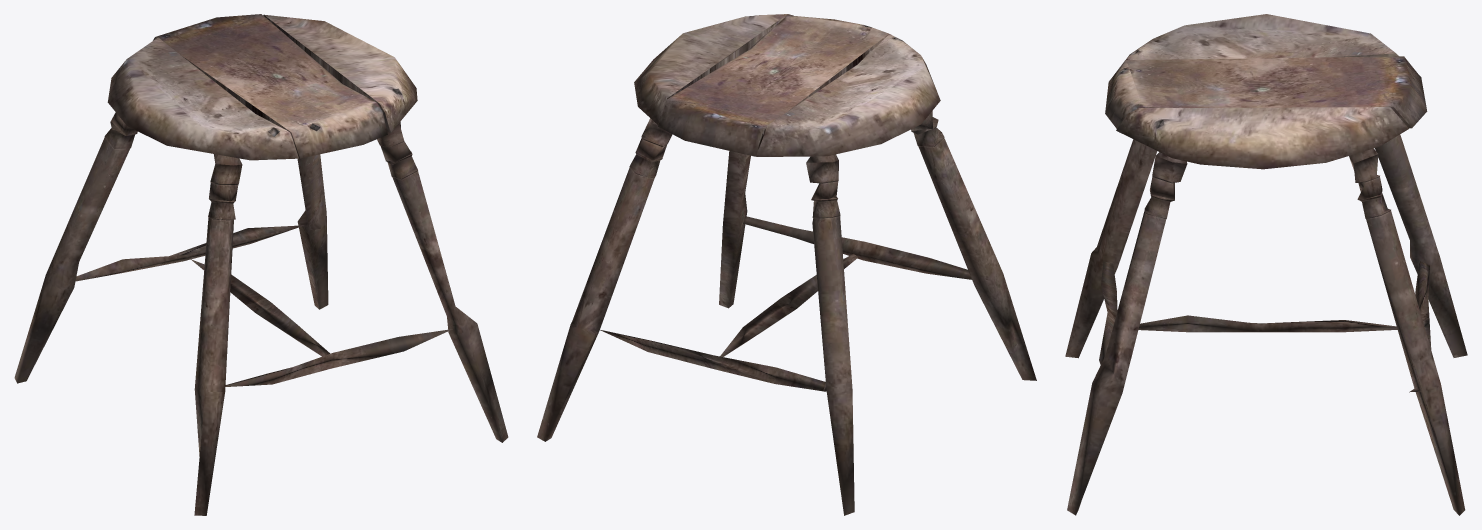
Rendered from wooden_stool_01.glb.
3 views of the same model, side by side, from view 1: azimuth 30°, elevation 25°; view 2: azimuth 150°, elevation 25°; view 3: azimuth 270°, elevation 25° (orthographic). The views are drawn at different scales.
Visible parts, largest first — view 1: wooden_stool_01; view 2: wooden_stool_01; view 3: wooden_stool_01.
Boxes of the visible parts, x1,y1,x2,y2 form: wooden_stool_01: (14, 14, 508, 515); wooden_stool_01: (537, 14, 1036, 515); wooden_stool_01: (1065, 14, 1467, 515).
Size of the model in its own units: 0.4246 by 0.434 by 0.4411.
1 material, 1 textured.
